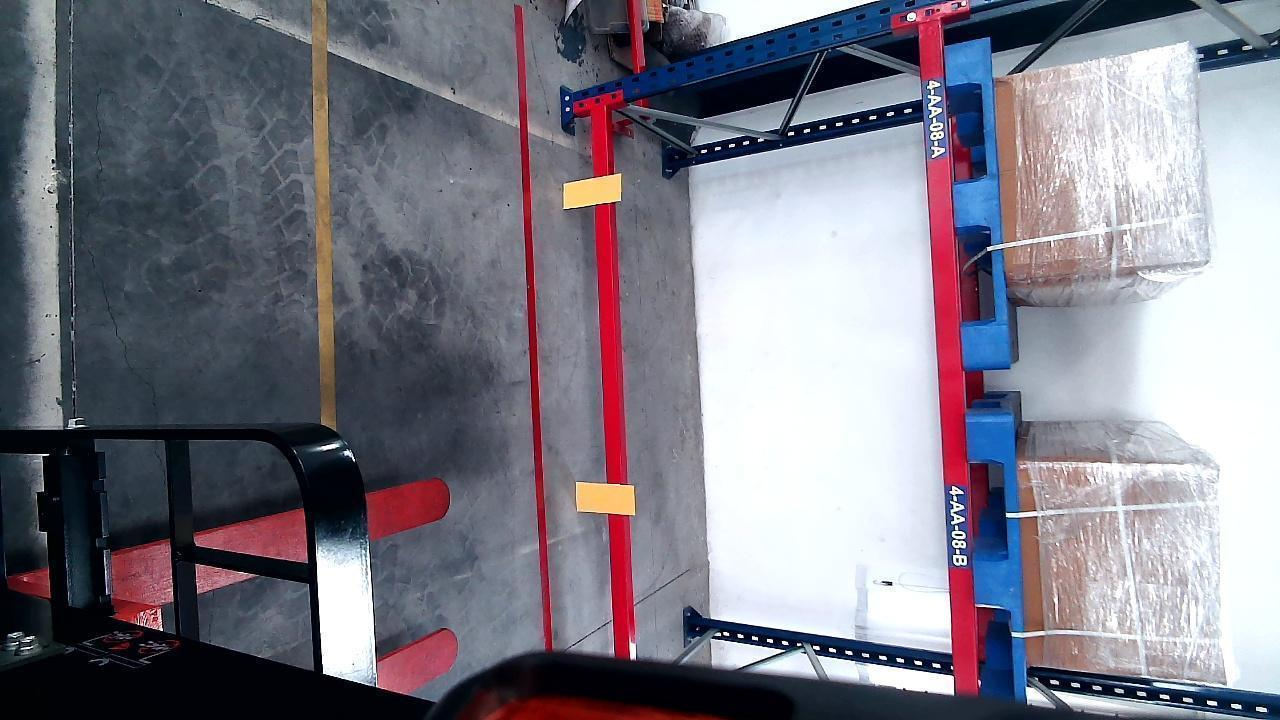red_line: (516, 5, 558, 651)
yellow_line: (312, 0, 336, 424)
